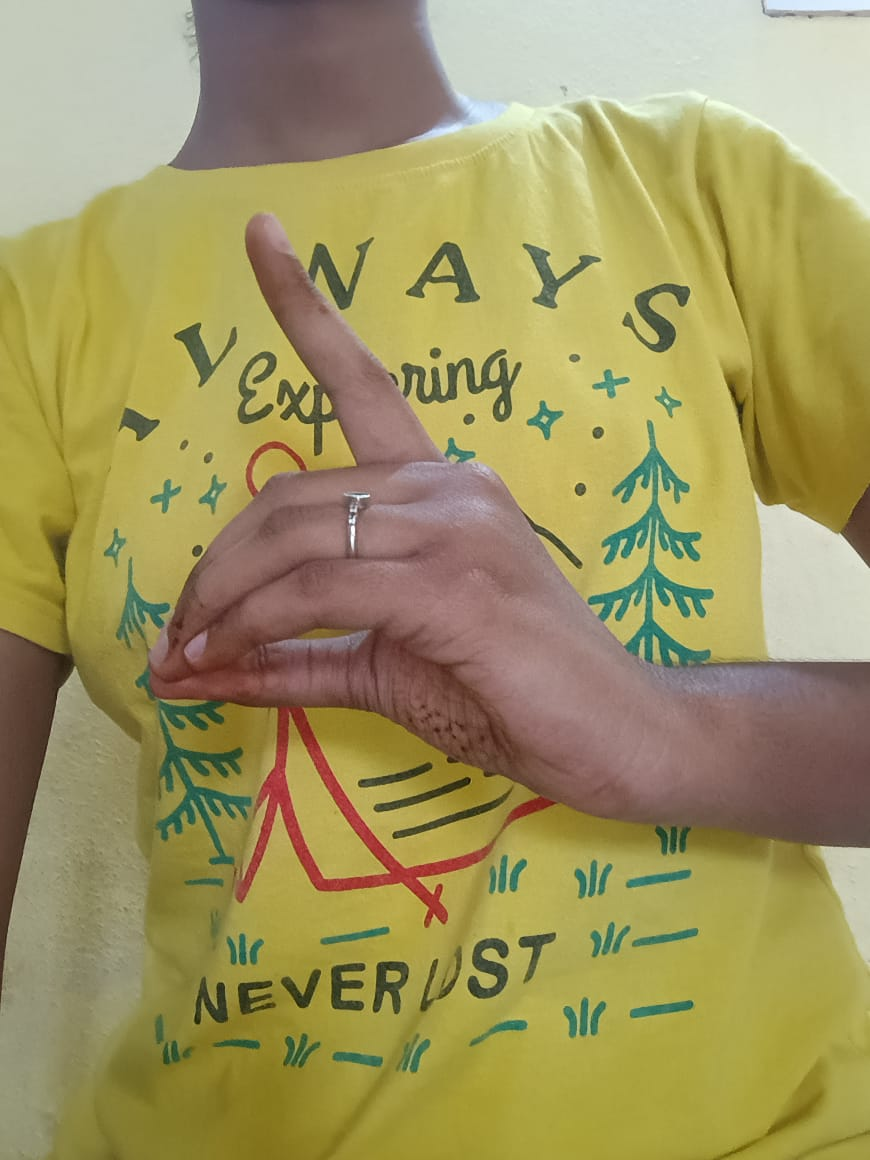D: (148, 213, 583, 804)
